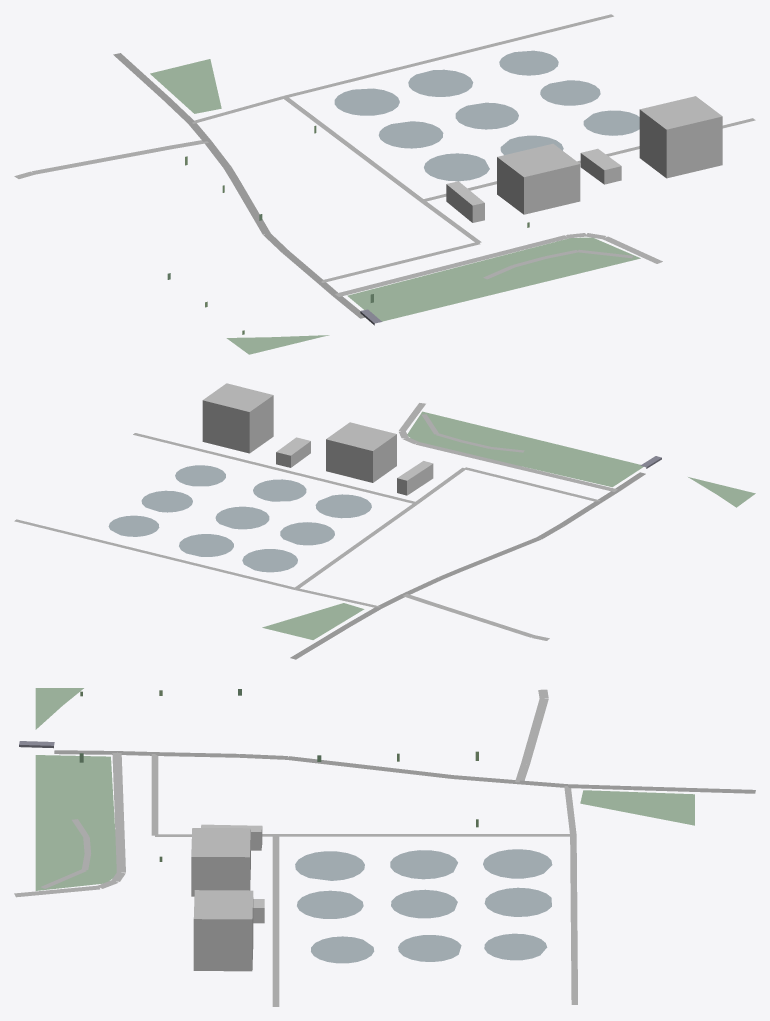
The picture shows the model from 3 angles, top to bottom: view 1: azimuth 30°, elevation 25°; view 2: azimuth 150°, elevation 25°; view 3: azimuth 270°, elevation 25°; orthographic projection. The views are drawn at different scales.
Bounding box in the file's own units: 576 × 44.76 × 563.
